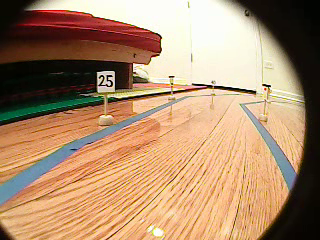Green Traffic Light: (169, 76, 177, 87)
Red Traffic Light: (261, 83, 270, 102)
Speed Limit 25: (96, 70, 117, 93)
